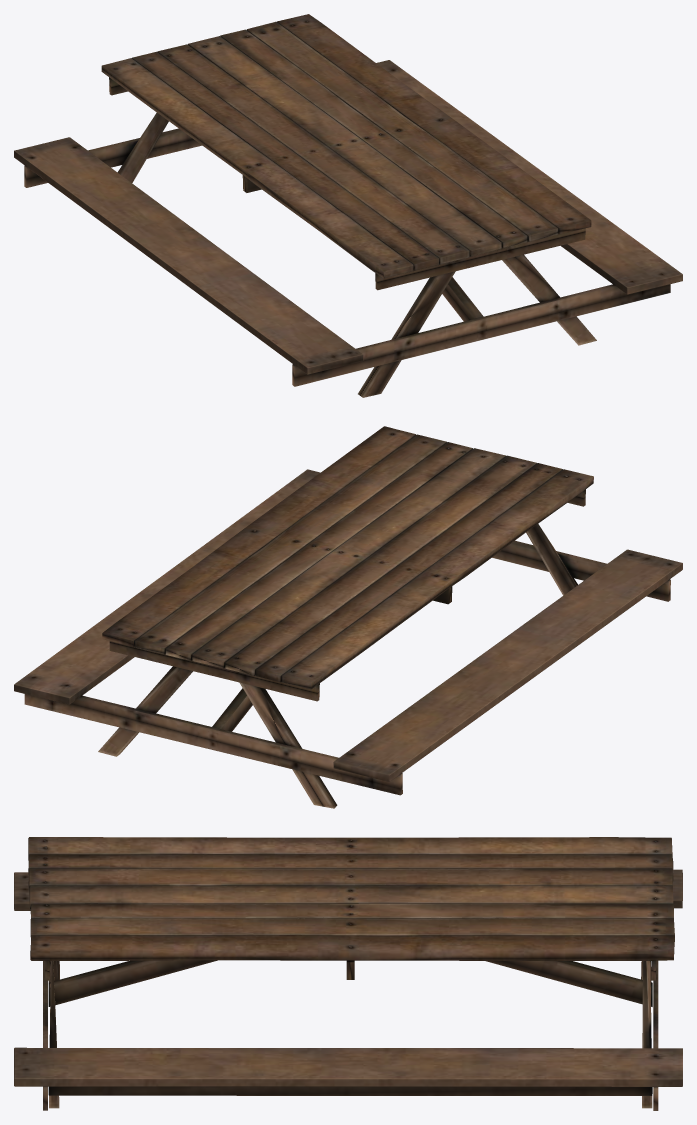
The model's file is wooden_picnic_table.glb.
The picture shows the model from 3 angles, top to bottom: view 1: azimuth 30°, elevation 25°; view 2: azimuth 150°, elevation 25°; view 3: azimuth 270°, elevation 25°; orthographic projection. The views are drawn at different scales.
Visible parts, largest first — view 1: wooden_picnic_table; view 2: wooden_picnic_table; view 3: wooden_picnic_table.
Part boxes in pixels (box(x1,y1,x2,y2)): wooden_picnic_table: box(14, 14, 682, 397); wooden_picnic_table: box(14, 426, 682, 808); wooden_picnic_table: box(14, 837, 682, 1110).
Bounding box in the file's own units: 2.24 × 0.7453 × 3.02.
Materials: 2 (2 with a texture image).
